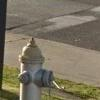Hydrant: (16, 26, 61, 100)
